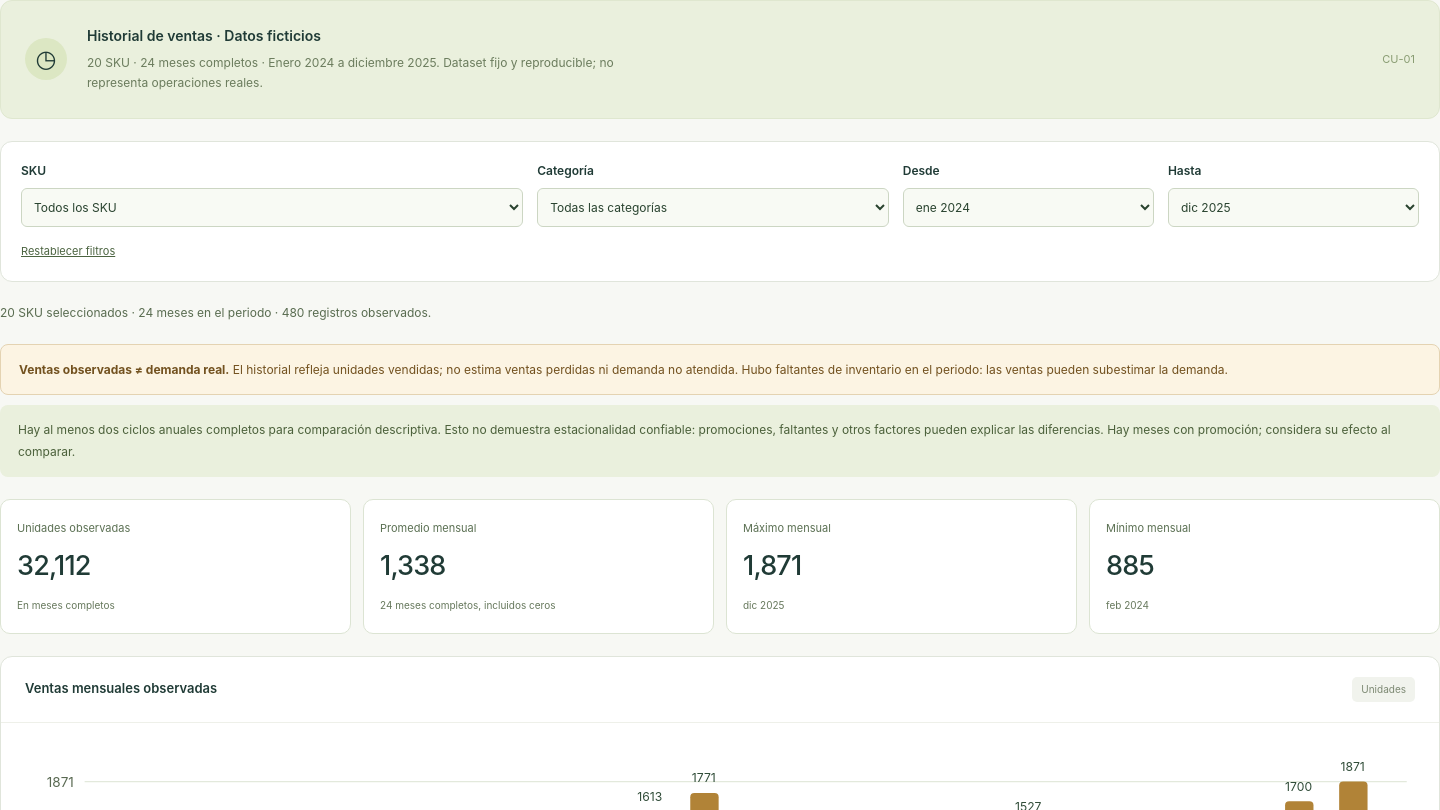
Test case: Pantalla Historial › informa un periodo invertido sin mostrar indicadores falsos
This screenshot has width=1440, height=810.
Select "dic 2025" in the dropdown labelled "Desde" at (1028, 207), box [903,188,1154,227]
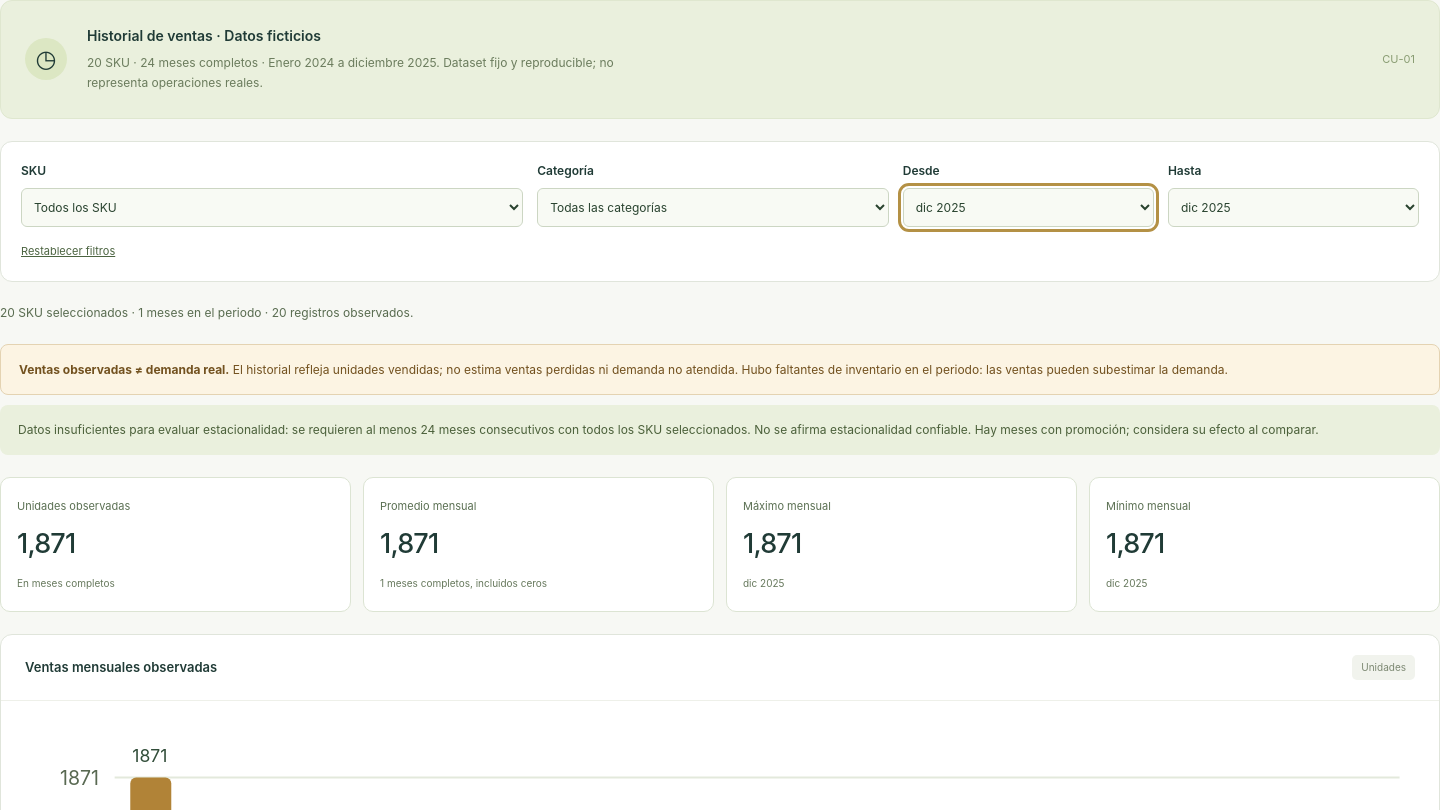
Select "ene 2024" in the dropdown labelled "Hasta" at (1293, 207), box [1168,188,1419,227]
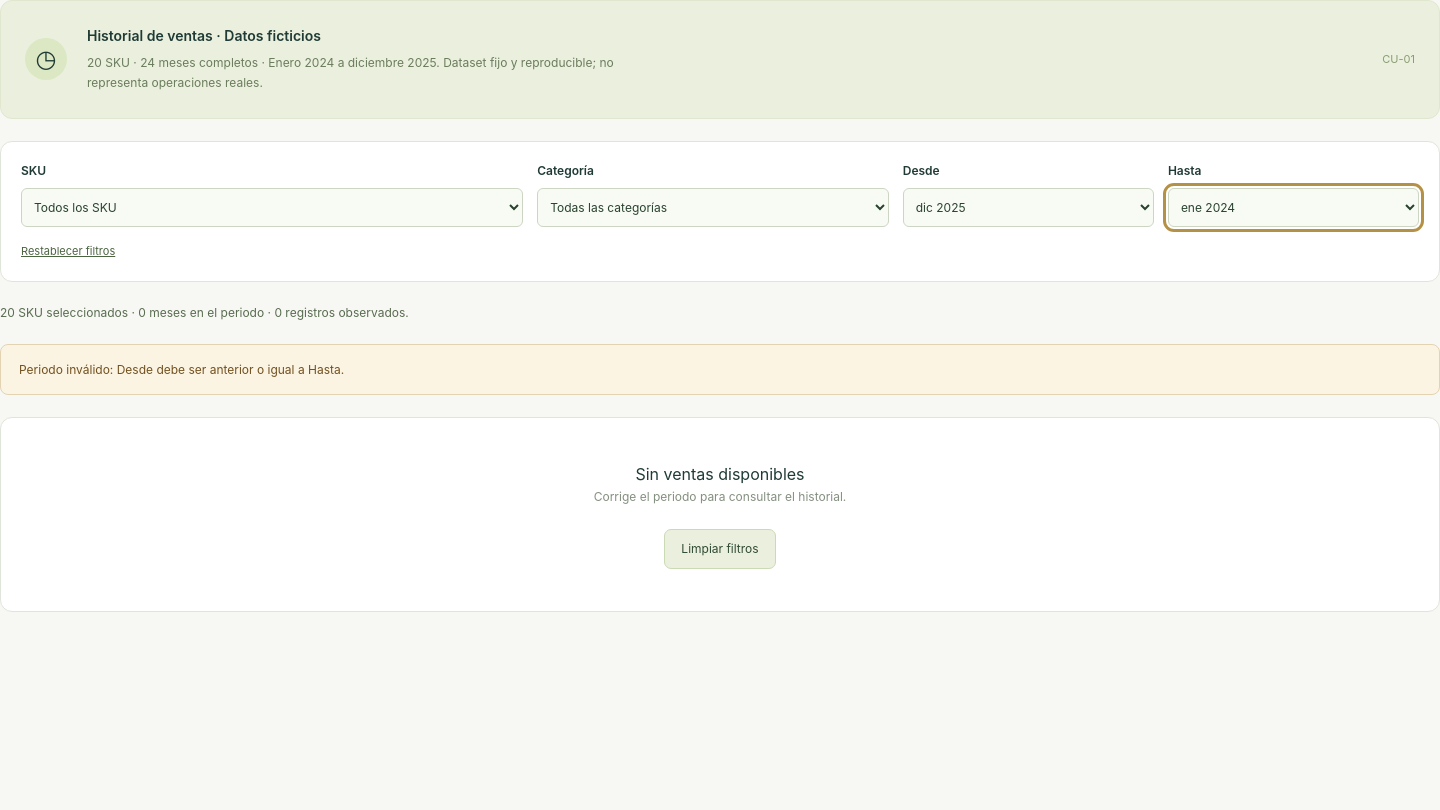
Expected: the message "Periodo inválido: Desde debe ser anterior o igual a Hasta." is shown, [0,344,1439,395]
